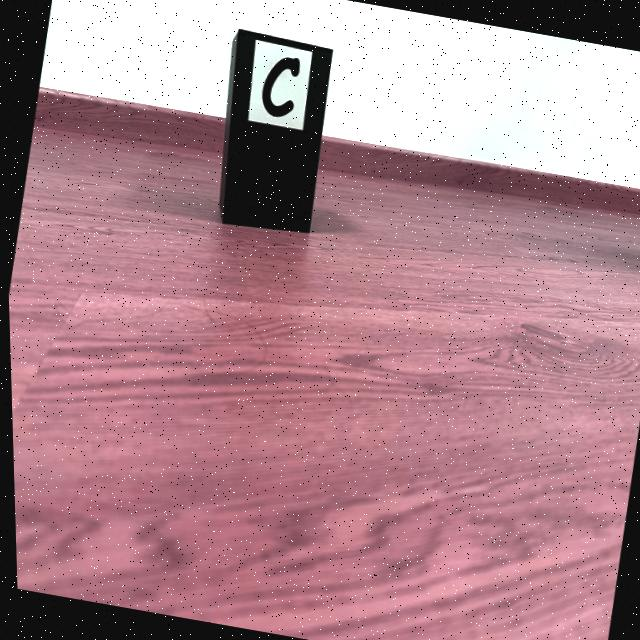C: (261, 57, 299, 117)
